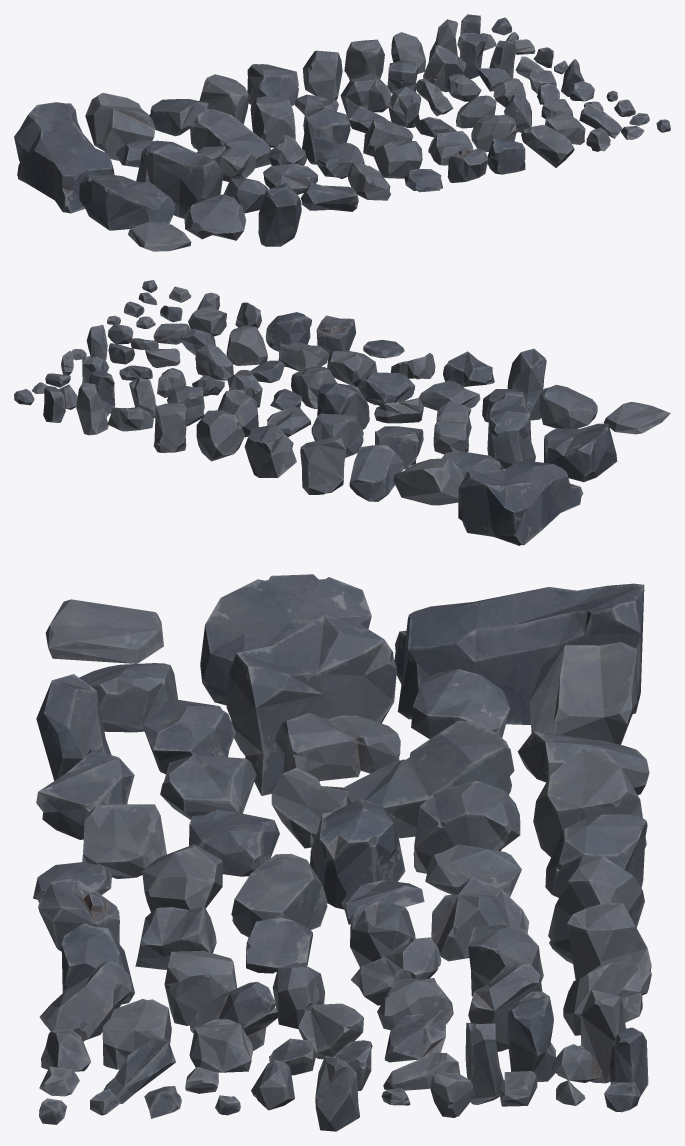
The model's file is 70_stylized_rocks (1).glb.
The picture shows the model from 3 angles, top to bottom: view 1: azimuth 30°, elevation 25°; view 2: azimuth 150°, elevation 25°; view 3: azimuth 270°, elevation 25°; orthographic projection. The views are drawn at different scales.
Parts seen in each view (by area): view 1: Object_71, Object_66, Object_70, Object_68, Object_60, Object_62, Object_65, Object_53, Object_55, Object_54, Object_49, Object_57 (+44 smaller); view 2: Object_71, Object_70, Object_66, Object_68, Object_61, Object_57, Object_54, Object_65, Object_49, Object_62, Object_64, Object_53 (+42 smaller); view 3: Object_71, Object_66, Object_70, Object_68, Object_60, Object_53, Object_64, Object_57, Object_55, Object_69, Object_47, Object_51 (+52 smaller).
Boxes of the visible parts, <box> form: Object_71: <box>14,102,114,213</box>; Object_66: <box>136,140,223,218</box>; Object_70: <box>79,174,175,230</box>; Object_68: <box>85,93,155,160</box>; Object_60: <box>190,109,271,168</box>; Object_62: <box>258,182,301,246</box>; Object_65: <box>184,194,246,240</box>; Object_53: <box>302,108,350,164</box>; Object_55: <box>250,95,295,147</box>; Object_54: <box>247,64,298,106</box>; Object_49: <box>302,50,342,100</box>; Object_57: <box>199,74,248,124</box>; Object_71: <box>458,461,583,545</box>; Object_70: <box>544,423,617,482</box>; Object_66: <box>487,393,535,469</box>; Object_68: <box>393,458,464,505</box>; Object_61: <box>349,445,404,501</box>; Object_57: <box>300,438,346,494</box>; Object_54: <box>244,425,296,477</box>; Object_65: <box>539,384,597,428</box>; Object_49: <box>196,410,244,461</box>; Object_62: <box>507,348,546,420</box>; Object_64: <box>433,401,471,454</box>; Object_53: <box>317,383,369,429</box>; Object_71: <box>394,583,644,724</box>; Object_66: <box>226,615,396,795</box>; Object_70: <box>200,574,371,705</box>; Object_68: <box>529,642,637,744</box>; Object_60: <box>344,721,514,838</box>; Object_53: <box>310,799,405,909</box>; Object_64: <box>275,713,400,781</box>; Object_57: <box>533,747,646,857</box>; Object_55: <box>413,780,520,873</box>; Object_69: <box>45,599,163,663</box>; Object_47: <box>231,853,327,937</box>; Object_51: <box>82,804,166,878</box>.
Size of the model in its own units: 18.65 by 2.23 by 9.57.
Materials: 70 (70 with a texture image).
